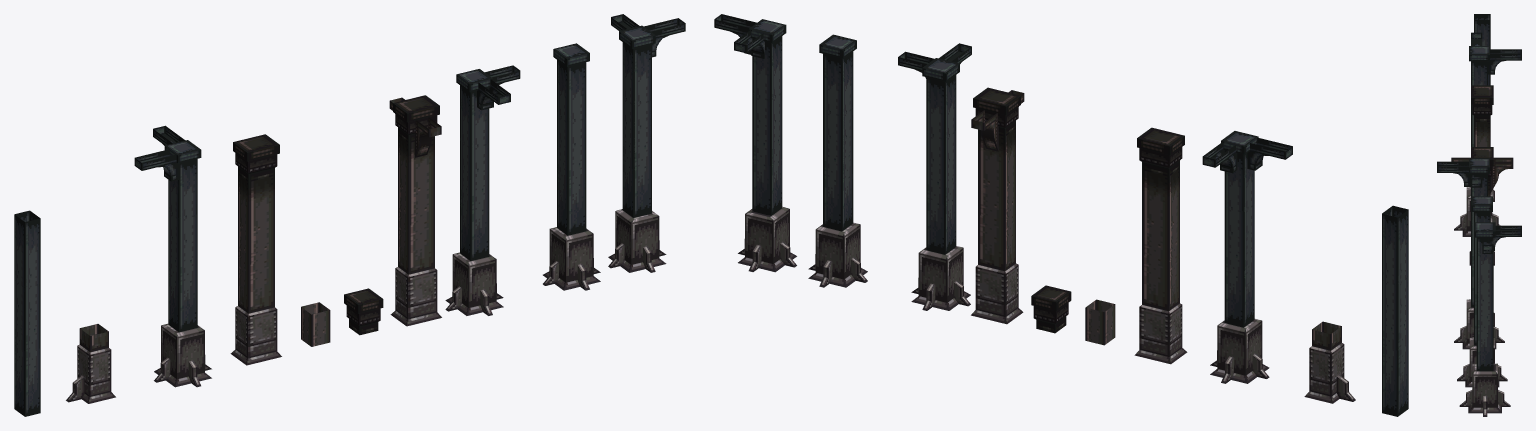
File: EnvMdrMD_Factory_A_Piller_A.FBX
The picture shows the model from 3 angles, left to right: view 1: azimuth 30°, elevation 25°; view 2: azimuth 150°, elevation 25°; view 3: azimuth 270°, elevation 25°; orthographic projection. The views are drawn at different scales.
Visible parts, largest first — view 1: EnvMdrMD_Factory_A_Piller_A_CoOut_RF, EnvMdrMD_Factory_A_Piller_A_CoOut_RB, EnvMdrMD_Factory_A_Piller_A_CoOut_LF, EnvMdrMD_Factory_A_Piller_C, EnvMdrMD_Factory_A_Piller_D, EnvMdrMD_Factory_A_Piller_A, EnvMdrMD_Factory_A_Piller_B, EnvMdrMD_Factory_A_Piller_C_Start, EnvMdrMD_Factory_A_Piller_C_End, EnvMdrMD_Factory_A_Piller_C_Loop; view 2: EnvMdrMD_Factory_A_Piller_A_CoOut_RB, EnvMdrMD_Factory_A_Piller_A_CoOut_LF, EnvMdrMD_Factory_A_Piller_A_CoOut_RF, EnvMdrMD_Factory_A_Piller_C, EnvMdrMD_Factory_A_Piller_D, EnvMdrMD_Factory_A_Piller_A, EnvMdrMD_Factory_A_Piller_B, EnvMdrMD_Factory_A_Piller_C_Start, EnvMdrMD_Factory_A_Piller_C_End, EnvMdrMD_Factory_A_Piller_C_Loop; view 3: EnvMdrMD_Factory_A_Piller_A_CoOut_RF, EnvMdrMD_Factory_A_Piller_A_CoOut_LF, EnvMdrMD_Factory_A_Piller_A_CoOut_RB, EnvMdrMD_Factory_A_Piller_A, EnvMdrMD_Factory_A_Piller_D, EnvMdrMD_Factory_A_Piller_C, EnvMdrMD_Factory_A_Piller_B.
Boxes of the visible parts, x1,y1,x2,y2 form: EnvMdrMD_Factory_A_Piller_A_CoOut_RF: [608, 14, 685, 272]; EnvMdrMD_Factory_A_Piller_A_CoOut_RB: [134, 125, 211, 387]; EnvMdrMD_Factory_A_Piller_A_CoOut_LF: [445, 65, 520, 315]; EnvMdrMD_Factory_A_Piller_C: [389, 95, 441, 326]; EnvMdrMD_Factory_A_Piller_D: [230, 134, 281, 365]; EnvMdrMD_Factory_A_Piller_A: [543, 43, 600, 290]; EnvMdrMD_Factory_A_Piller_B: [14, 210, 40, 416]; EnvMdrMD_Factory_A_Piller_C_Start: [66, 324, 115, 403]; EnvMdrMD_Factory_A_Piller_C_End: [344, 288, 383, 335]; EnvMdrMD_Factory_A_Piller_C_Loop: [301, 302, 330, 346]; EnvMdrMD_Factory_A_Piller_A_CoOut_RB: [1202, 131, 1292, 383]; EnvMdrMD_Factory_A_Piller_A_CoOut_LF: [898, 43, 971, 310]; EnvMdrMD_Factory_A_Piller_A_CoOut_RF: [714, 14, 796, 272]; EnvMdrMD_Factory_A_Piller_C: [971, 87, 1024, 324]; EnvMdrMD_Factory_A_Piller_D: [1134, 127, 1187, 364]; EnvMdrMD_Factory_A_Piller_A: [808, 34, 867, 287]; EnvMdrMD_Factory_A_Piller_B: [1382, 205, 1408, 416]; EnvMdrMD_Factory_A_Piller_C_Start: [1304, 321, 1355, 403]; EnvMdrMD_Factory_A_Piller_C_End: [1031, 285, 1071, 333]; EnvMdrMD_Factory_A_Piller_C_Loop: [1085, 299, 1115, 345]; EnvMdrMD_Factory_A_Piller_A_CoOut_RF: [1459, 222, 1521, 416]; EnvMdrMD_Factory_A_Piller_A_CoOut_LF: [1437, 158, 1504, 349]; EnvMdrMD_Factory_A_Piller_A_CoOut_RB: [1454, 32, 1521, 236]; EnvMdrMD_Factory_A_Piller_A: [1457, 196, 1507, 387]; EnvMdrMD_Factory_A_Piller_D: [1469, 85, 1494, 265]; EnvMdrMD_Factory_A_Piller_C: [1451, 147, 1513, 326]; EnvMdrMD_Factory_A_Piller_B: [1474, 14, 1490, 85].
Bounding box in the file's own units: 2146 × 700 × 300.
1 material, 1 textured.
